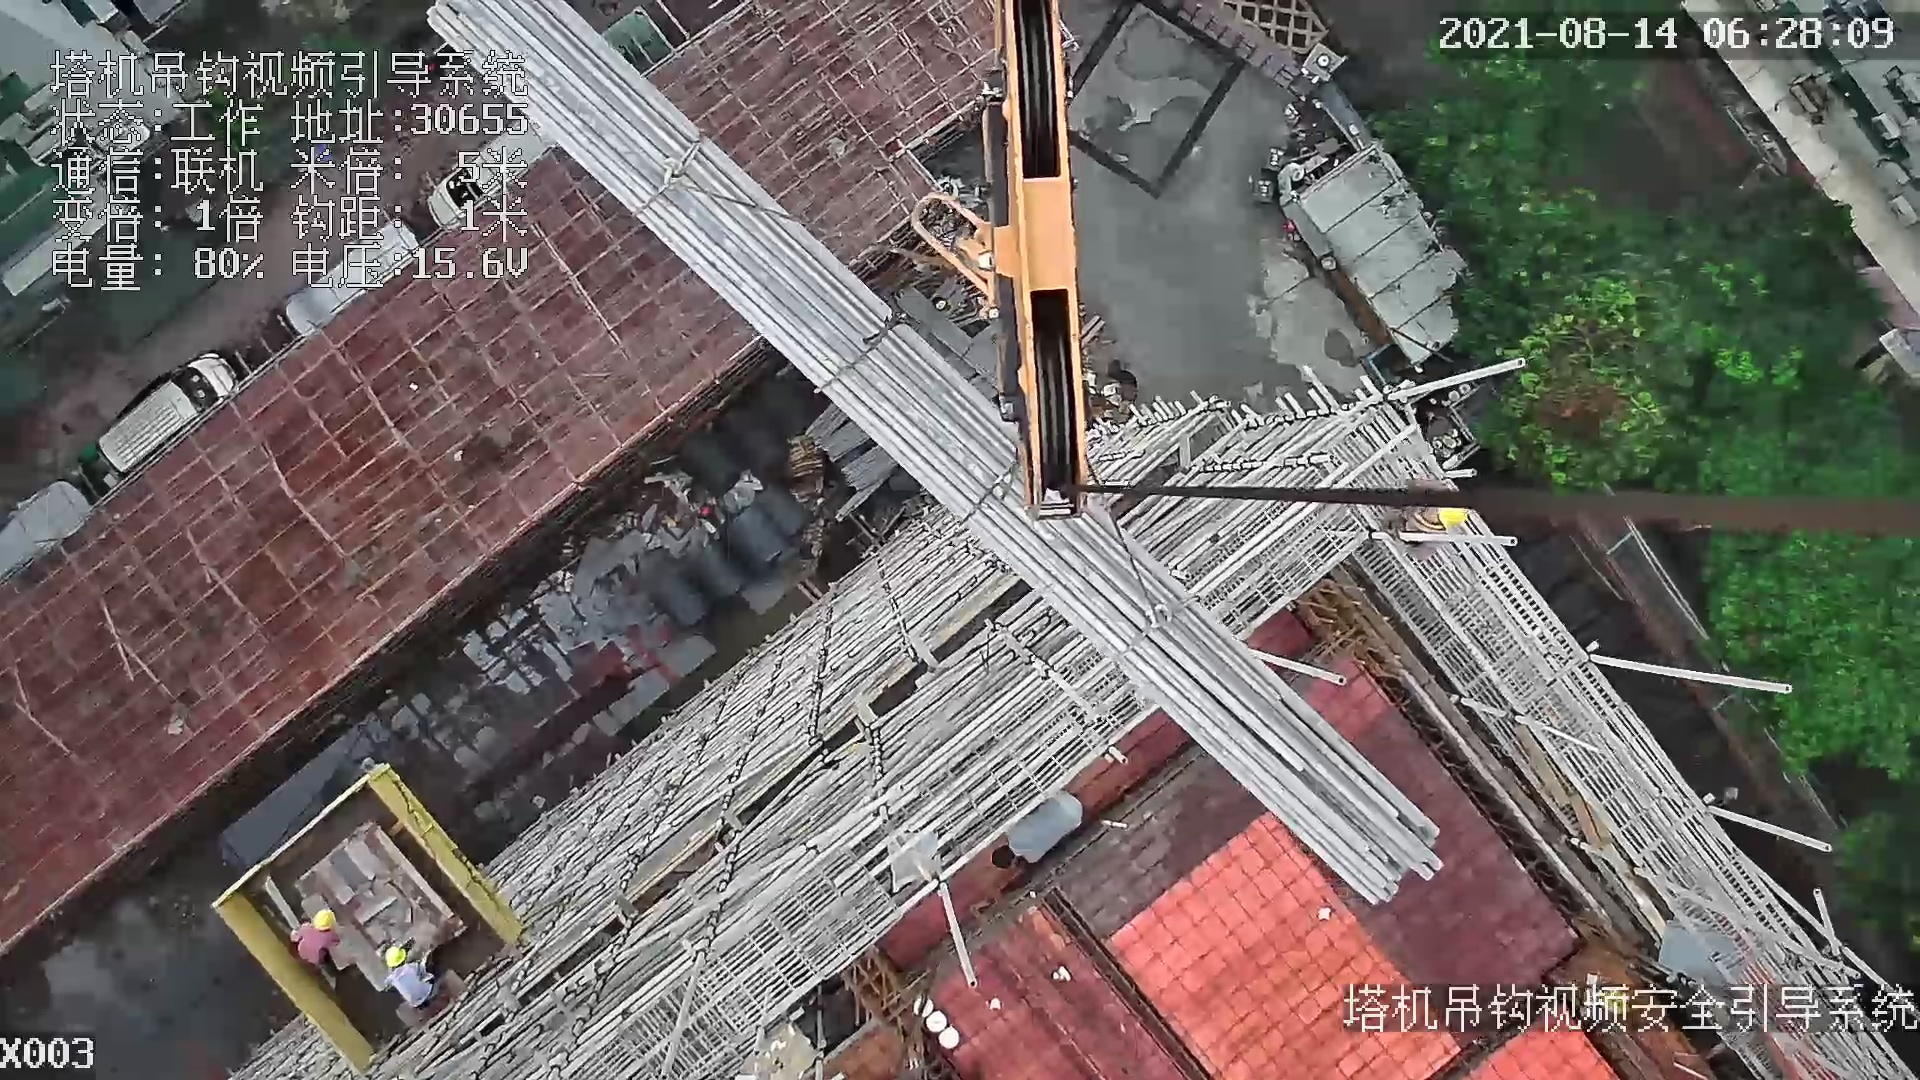helmet: (311, 903, 342, 938), (379, 945, 416, 966)
hook: (982, 1, 1091, 522)
person: (283, 904, 344, 971), (378, 944, 438, 1008)
